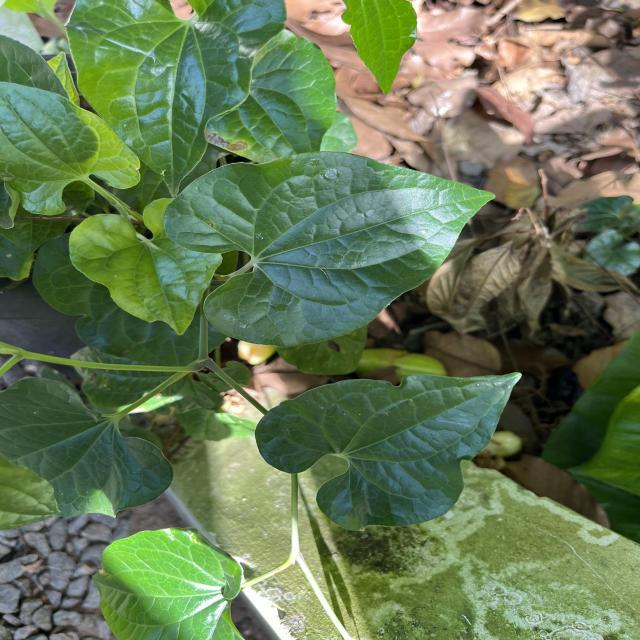Piper longum: (160, 146, 500, 352), (252, 368, 526, 534), (66, 196, 226, 337)
